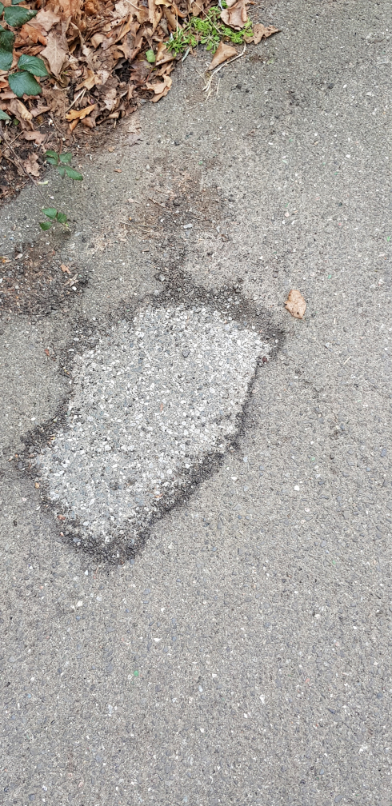pothole: (10, 268, 287, 572)
